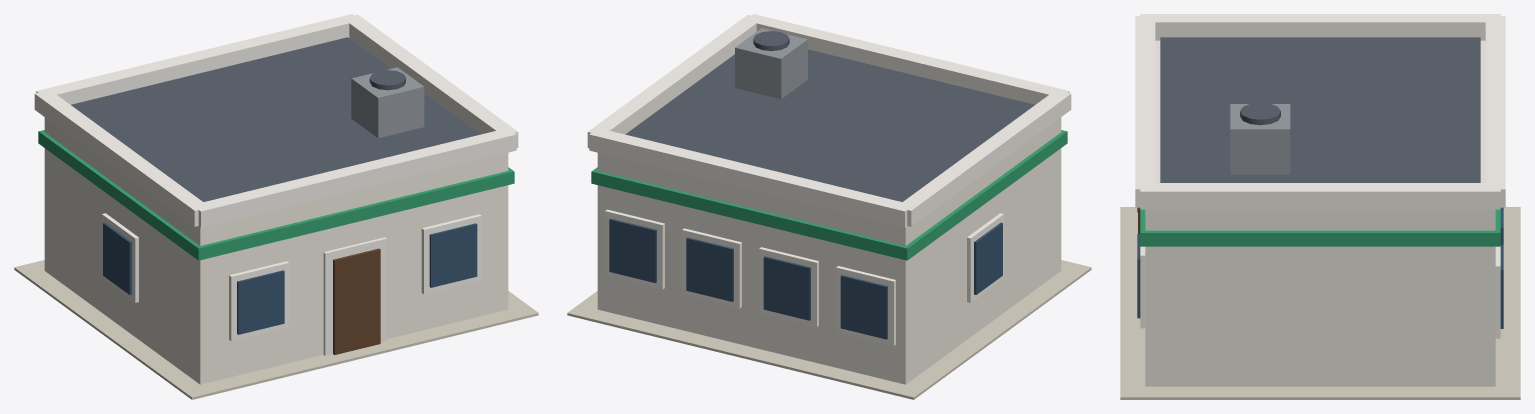
Rendered from annex-ward.glb.
The picture shows the model from 3 angles, left to right: view 1: azimuth 30°, elevation 25°; view 2: azimuth 150°, elevation 25°; view 3: azimuth 270°, elevation 25°; orthographic projection. The views are drawn at different scales.
Parts seen in each view (by area): view 1: building, roof, parapet (×4), ground, accent_stripe, window_glass (×3), door, window_frame (×3), ac_unit_body, door_frame, ac_unit_fan; view 2: building, roof, parapet (×4), window_glass (×5), ground, accent_stripe, window_frame (×5), ac_unit_body, ac_unit_fan; view 3: building, roof, parapet (×4), ground, accent_stripe, ac_unit_body, window_frame (×2), ac_unit_fan.
Part boxes in pixels (x1=…): building: x1=44, y1=117, x2=508, y2=384; roof: x1=71, y1=37, x2=480, y2=201; parapet (×4): x1=34, y1=14, x2=518, y2=227; ground: x1=14, y1=260, x2=538, y2=399; accent_stripe: x1=38, y1=130, x2=514, y2=260; window_glass (×3): x1=103, y1=222, x2=477, y2=334; door: x1=333, y1=248, x2=380, y2=354; window_frame (×3): x1=102, y1=213, x2=481, y2=341; ac_unit_body: x1=351, y1=67, x2=424, y2=138; door_frame: x1=323, y1=237, x2=386, y2=355; ac_unit_fan: x1=369, y1=70, x2=405, y2=90; building: x1=597, y1=117, x2=1061, y2=384; roof: x1=625, y1=49, x2=1034, y2=201; parapet (×4): x1=587, y1=14, x2=1071, y2=227; window_glass (×5): x1=609, y1=218, x2=1002, y2=339; ground: x1=567, y1=260, x2=1091, y2=399; accent_stripe: x1=591, y1=130, x2=1067, y2=260; window_frame (×5): x1=605, y1=209, x2=1003, y2=345; ac_unit_body: x1=735, y1=28, x2=807, y2=98; ac_unit_fan: x1=753, y1=31, x2=789, y2=51; building: x1=1145, y1=40, x2=1495, y2=386; roof: x1=1160, y1=37, x2=1480, y2=182; parapet (×4): x1=1135, y1=14, x2=1505, y2=209; ground: x1=1120, y1=207, x2=1520, y2=399; accent_stripe: x1=1140, y1=209, x2=1500, y2=246; ac_unit_body: x1=1230, y1=104, x2=1290, y2=174; window_frame (×2): x1=1140, y1=246, x2=1500, y2=338; ac_unit_fan: x1=1240, y1=102, x2=1280, y2=125.
Bounding box in the file's own units: 9 × 5.3 × 8.
